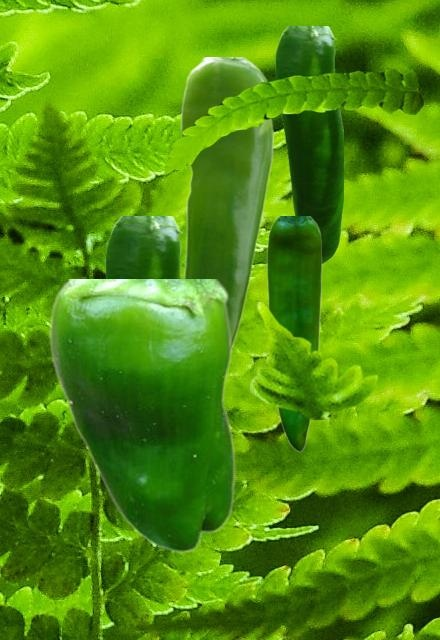green_chili: (48, 279, 234, 552), (178, 57, 272, 348), (275, 26, 342, 265), (266, 216, 321, 450), (105, 216, 183, 278)
